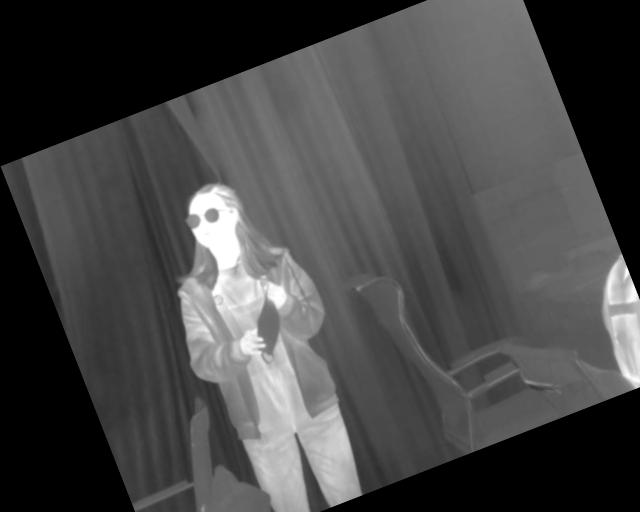face: (248, 104, 381, 256)
